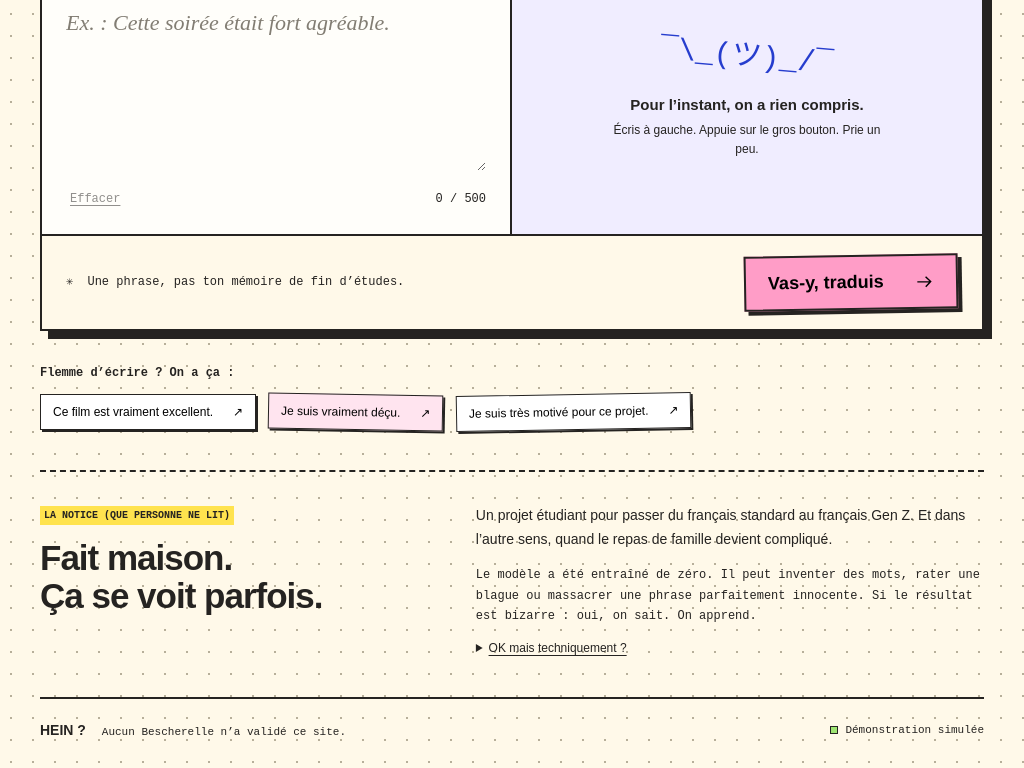
Scenario: affiche une erreur backend et permet de réessayer
(page scrolled)
Click the button "Ce film est vraiment excellent. ↗".
click(148, 412)  # box [40,394,256,430]
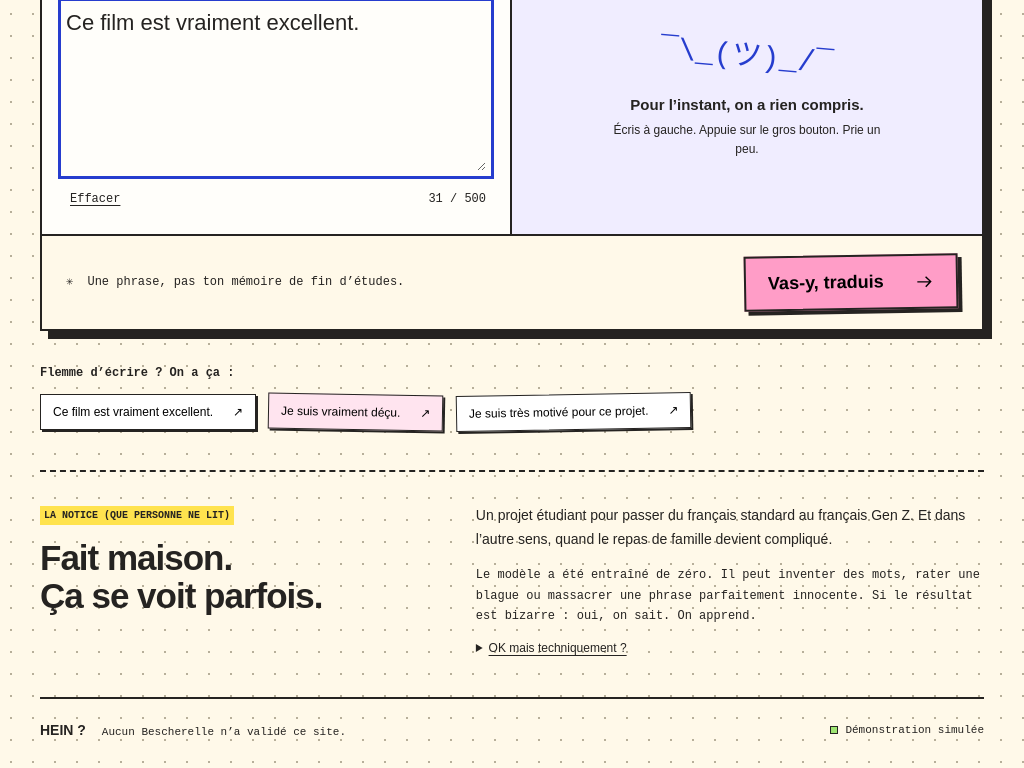
Click the button "Vas-y, traduis".
click(851, 282)  # box [744,253,958,312]
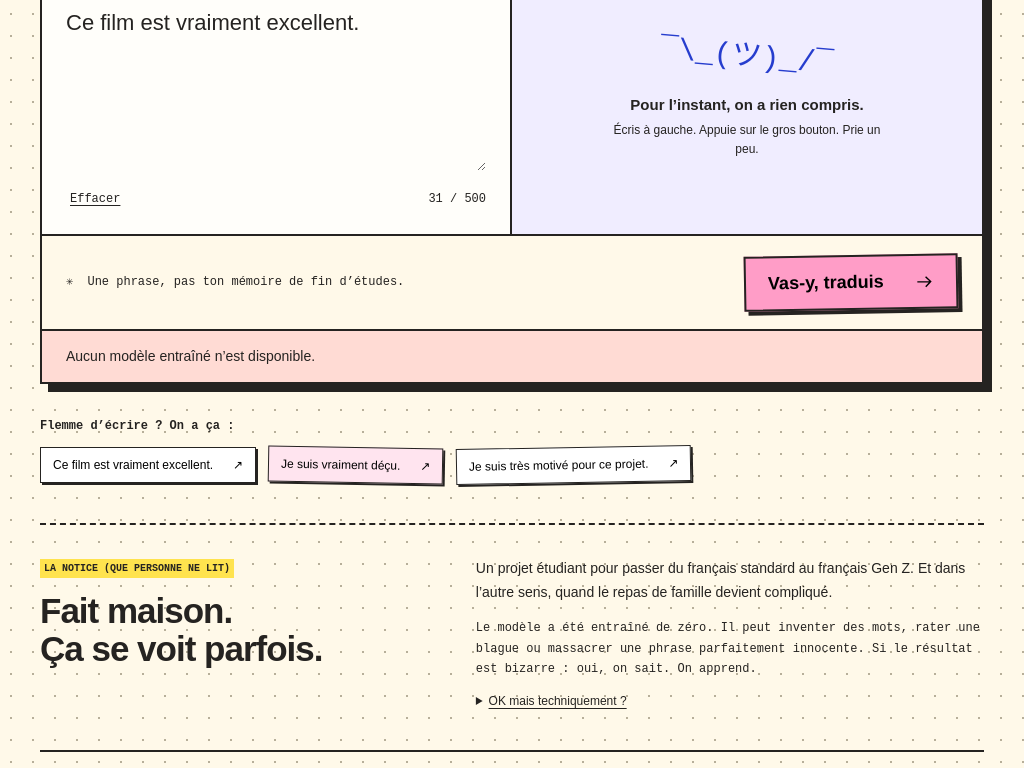
expect the text "Aucun modèle entraîné n’est disponible." is shown: met, box [42,329,982,382]
